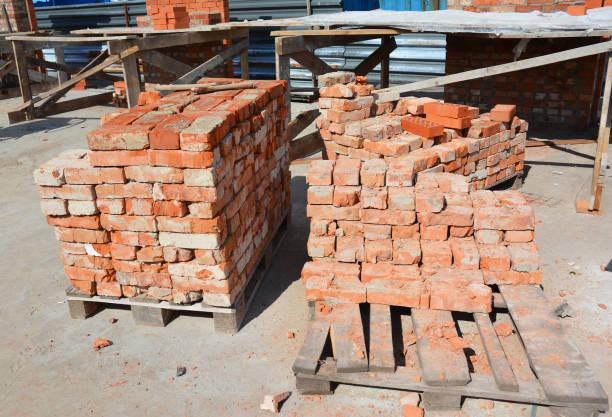Bricks: (494, 187, 535, 219), (216, 160, 249, 196), (364, 277, 430, 294), (364, 258, 421, 277), (43, 149, 92, 171), (101, 213, 158, 231), (477, 213, 531, 232), (418, 208, 474, 226), (128, 168, 183, 186), (423, 265, 478, 283), (150, 152, 210, 168), (186, 112, 229, 134), (72, 282, 127, 299), (400, 116, 444, 137), (64, 169, 124, 184), (472, 187, 505, 214), (226, 186, 253, 217), (157, 187, 216, 201), (93, 124, 152, 138), (153, 112, 192, 133), (309, 274, 363, 289), (498, 239, 543, 257), (314, 220, 363, 236), (433, 295, 488, 309), (57, 228, 108, 243), (211, 153, 238, 181), (366, 209, 418, 223), (301, 261, 361, 273), (428, 103, 473, 119), (90, 133, 145, 146), (169, 276, 224, 289), (431, 281, 490, 293), (115, 271, 165, 285), (39, 185, 96, 197), (433, 114, 473, 131), (63, 266, 108, 281), (308, 289, 364, 301), (90, 153, 145, 165), (309, 207, 359, 220), (62, 255, 108, 269), (158, 236, 215, 247), (57, 243, 109, 255), (169, 266, 221, 278), (115, 262, 163, 275), (446, 243, 483, 259), (366, 140, 411, 153), (368, 294, 420, 305), (233, 164, 254, 191), (48, 216, 99, 227), (97, 185, 153, 195), (362, 238, 396, 254), (472, 243, 506, 259), (192, 246, 222, 264), (216, 185, 236, 212), (238, 194, 258, 221), (180, 132, 211, 148), (362, 221, 391, 238), (153, 218, 183, 234), (387, 191, 410, 210), (93, 197, 120, 213), (490, 104, 515, 121), (389, 159, 417, 174), (152, 132, 178, 148), (124, 200, 150, 216), (416, 242, 450, 254), (182, 170, 213, 183), (309, 233, 337, 247), (138, 247, 161, 264), (110, 234, 153, 243), (478, 258, 510, 270), (311, 157, 343, 169), (338, 236, 365, 250), (421, 227, 450, 240), (334, 190, 356, 207), (389, 240, 420, 252), (337, 156, 363, 170), (162, 249, 192, 261), (337, 169, 358, 186), (325, 110, 360, 120), (332, 136, 361, 148), (191, 204, 214, 219), (189, 218, 220, 229), (69, 201, 95, 214), (155, 200, 181, 213), (199, 296, 225, 309), (420, 193, 444, 207), (364, 159, 392, 171), (309, 171, 331, 186), (394, 226, 417, 240), (362, 172, 383, 187), (110, 243, 133, 256), (517, 259, 540, 271), (322, 88, 352, 97), (43, 201, 65, 213), (424, 254, 448, 265), (229, 214, 243, 232), (309, 190, 328, 203), (391, 174, 411, 186), (39, 173, 61, 183), (339, 250, 361, 260), (365, 252, 388, 261), (395, 253, 420, 261), (367, 189, 380, 204), (458, 256, 477, 266), (311, 246, 331, 255), (220, 214, 229, 229), (241, 123, 251, 134), (252, 116, 260, 127), (499, 130, 509, 138), (457, 148, 468, 155), (235, 129, 242, 140), (488, 136, 498, 143), (445, 155, 456, 161), (470, 142, 478, 150), (224, 141, 232, 149), (483, 147, 490, 155), (476, 160, 482, 169), (446, 165, 458, 169), (462, 155, 468, 163), (487, 160, 499, 164), (492, 143, 497, 152), (466, 165, 471, 174), (482, 139, 487, 147), (471, 154, 479, 159)
